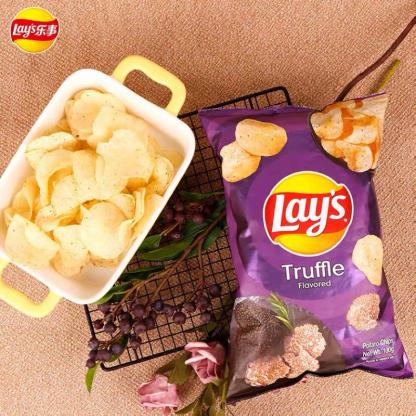potatochip: (202, 93, 415, 408)
